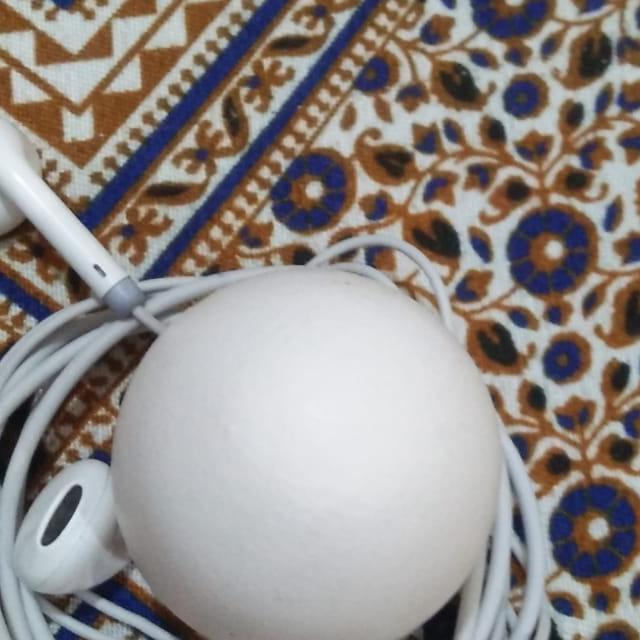egg: (55, 236, 538, 640)
